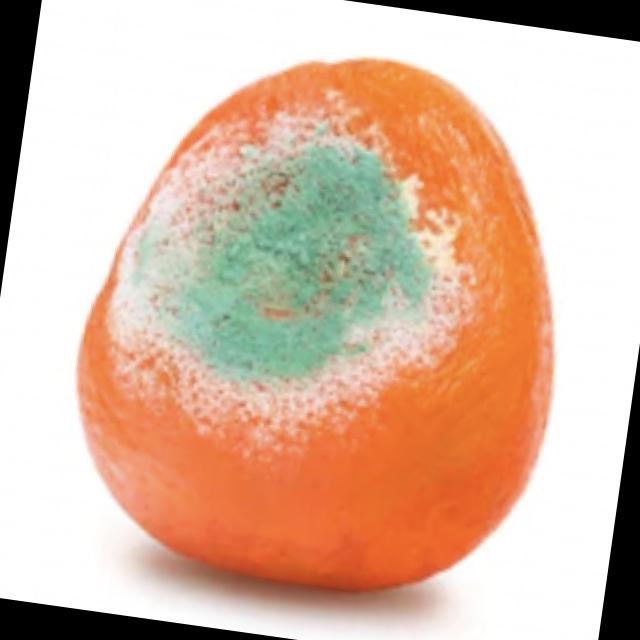rotten-orange: (45, 21, 598, 624)
